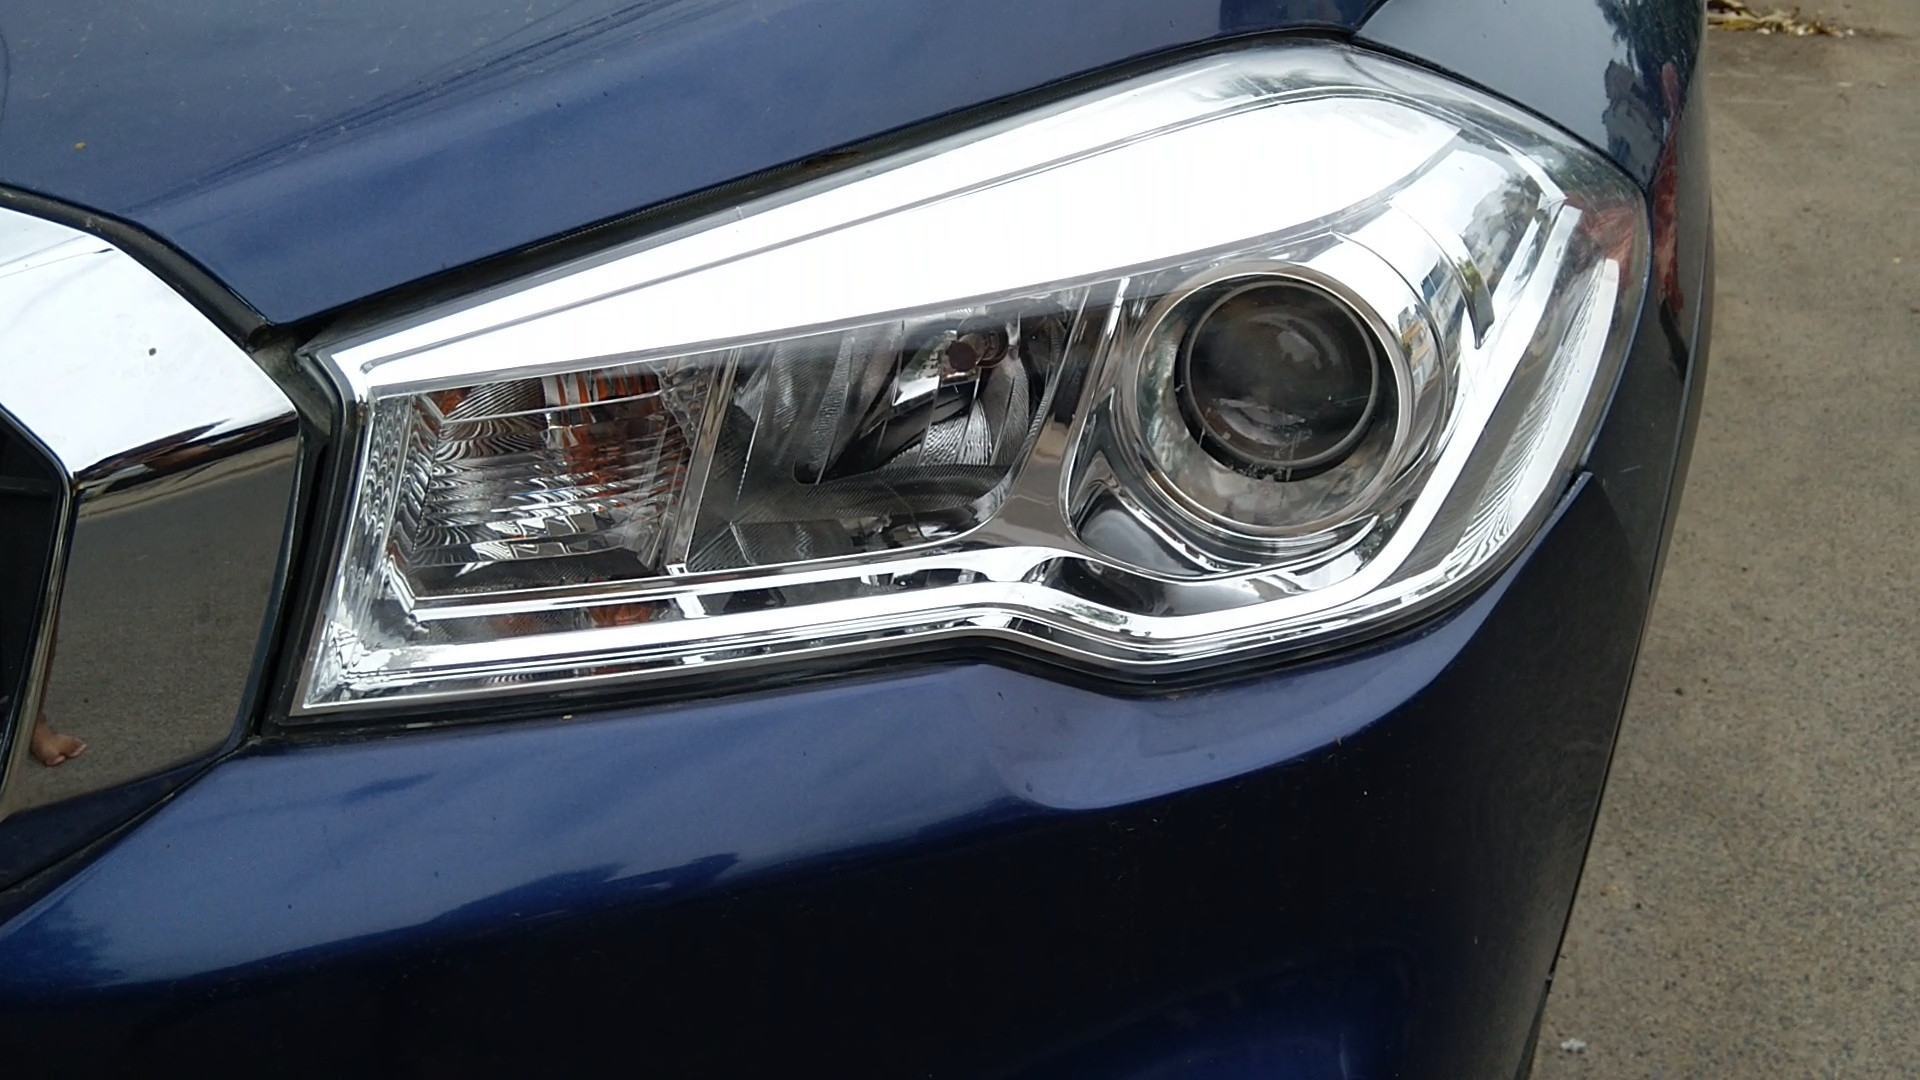headlamp: (225, 17, 1673, 922)
